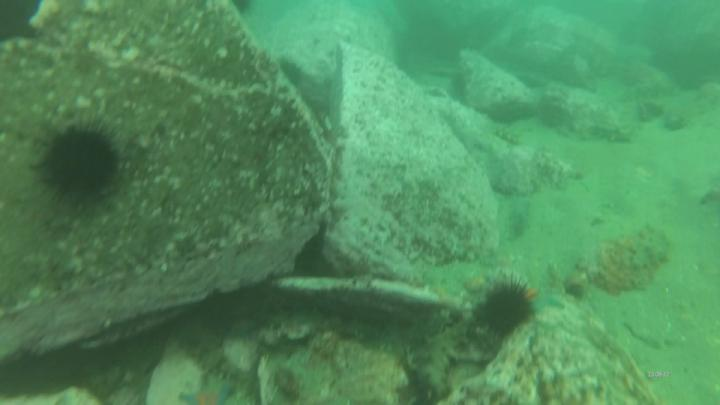echinus: (32, 122, 125, 214), (469, 268, 535, 341)
holothurian: (414, 318, 472, 396)
starfish: (181, 377, 236, 405)
